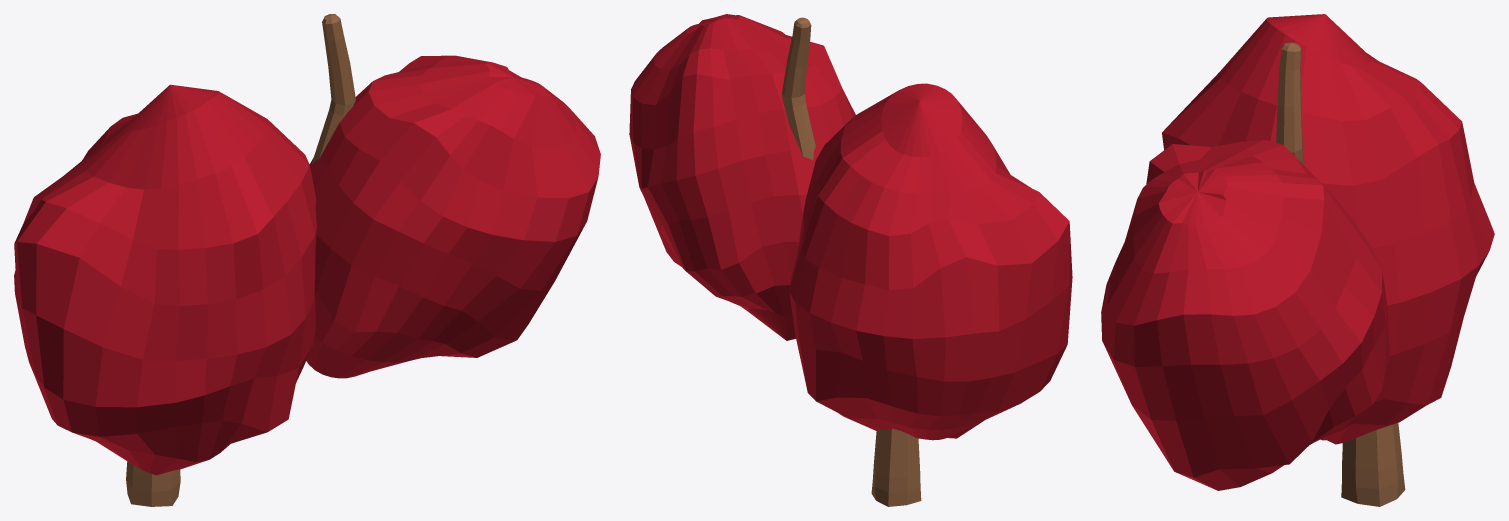
The model's file is tree-dead-complete-12-004.glb.
The picture shows the model from 3 angles, left to right: view 1: azimuth 30°, elevation 25°; view 2: azimuth 150°, elevation 25°; view 3: azimuth 270°, elevation 25°; orthographic projection. The views are drawn at different scales.
Parts seen in each view (by area): view 1: TREE 12.007_501, TREE 12.006_502; view 2: TREE 12.007_501, TREE 12.006_502; view 3: TREE 12.007_501, TREE 12.006_502.
Boxes of the visible parts, x1,y1,x2,y2 form: TREE 12.007_501: (14,55,600,475); TREE 12.006_502: (126,14,355,506); TREE 12.007_501: (629,14,1072,440); TREE 12.006_502: (782,17,921,506); TREE 12.007_501: (1101,14,1494,490); TREE 12.006_502: (1276,42,1405,506).
Size of the model in its own units: 1.4 by 1.23 by 0.828.
